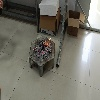fire: (45, 38, 51, 46), (34, 47, 35, 50)
